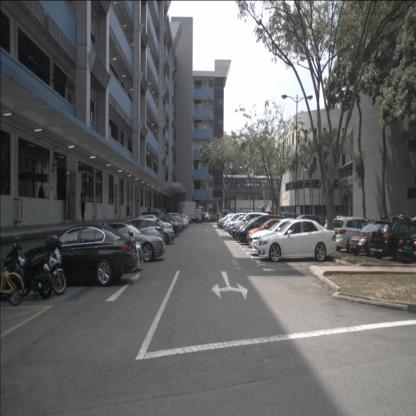human-pedestrian-adult: (79, 187, 87, 224)
vehicle-bicycle: (0, 257, 25, 307)
vehicle-car: (34, 224, 138, 286), (258, 219, 336, 261), (94, 222, 164, 262), (249, 218, 317, 254), (368, 216, 416, 260), (349, 221, 402, 256), (331, 217, 376, 252), (246, 218, 296, 248), (238, 214, 286, 245), (118, 217, 164, 249), (133, 219, 175, 245), (230, 212, 270, 237), (141, 212, 179, 236), (290, 215, 323, 238), (397, 227, 416, 263), (223, 212, 252, 232), (280, 212, 302, 232), (166, 212, 189, 228), (160, 215, 184, 230), (218, 212, 240, 228), (168, 216, 187, 228), (176, 214, 191, 224), (196, 212, 210, 222)
vehicle-motorcycle: (0, 234, 59, 301), (13, 245, 67, 296)
vehicle-truck: (178, 201, 202, 223), (183, 202, 205, 223)
